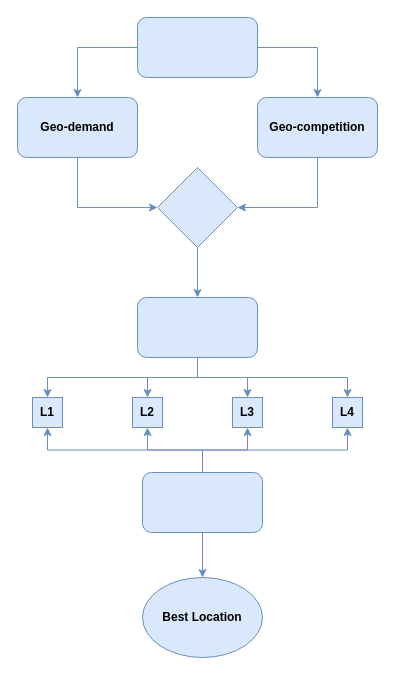
Image size: 395x675. Some labels were removed from this diagram. Here are the shapes that lost their labels. From the top down, the box of each, then its label:
(136, 16, 258, 78): Retail Site Location
(156, 166, 238, 248): Kernel Density
(136, 296, 258, 358): Possible Locations
(142, 472, 262, 532): AHP
